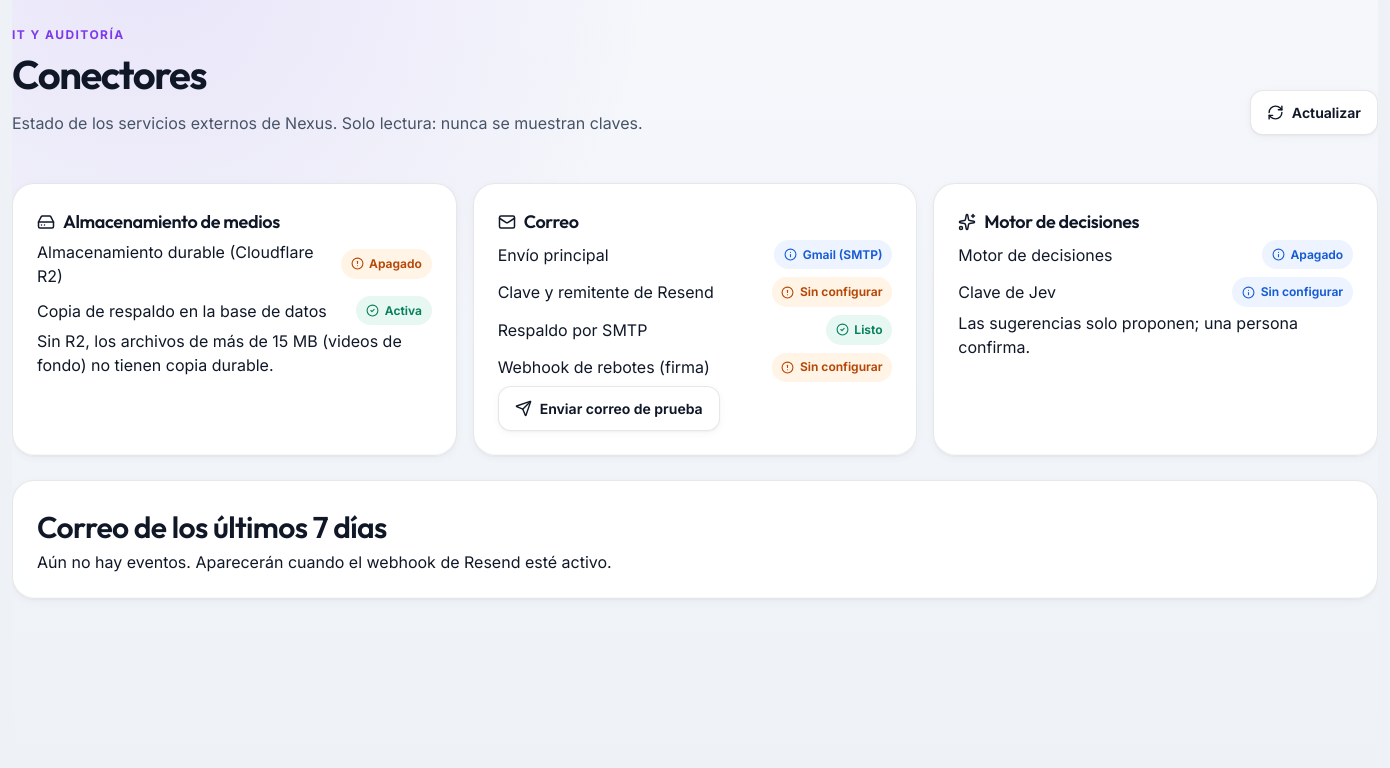
sends a test email to the signed-in Owner and reports the provider used
This screenshot has width=1390, height=768.
Click the button "Enviar correo de prueba". click: [609, 409]
box: [498,386,720,431]
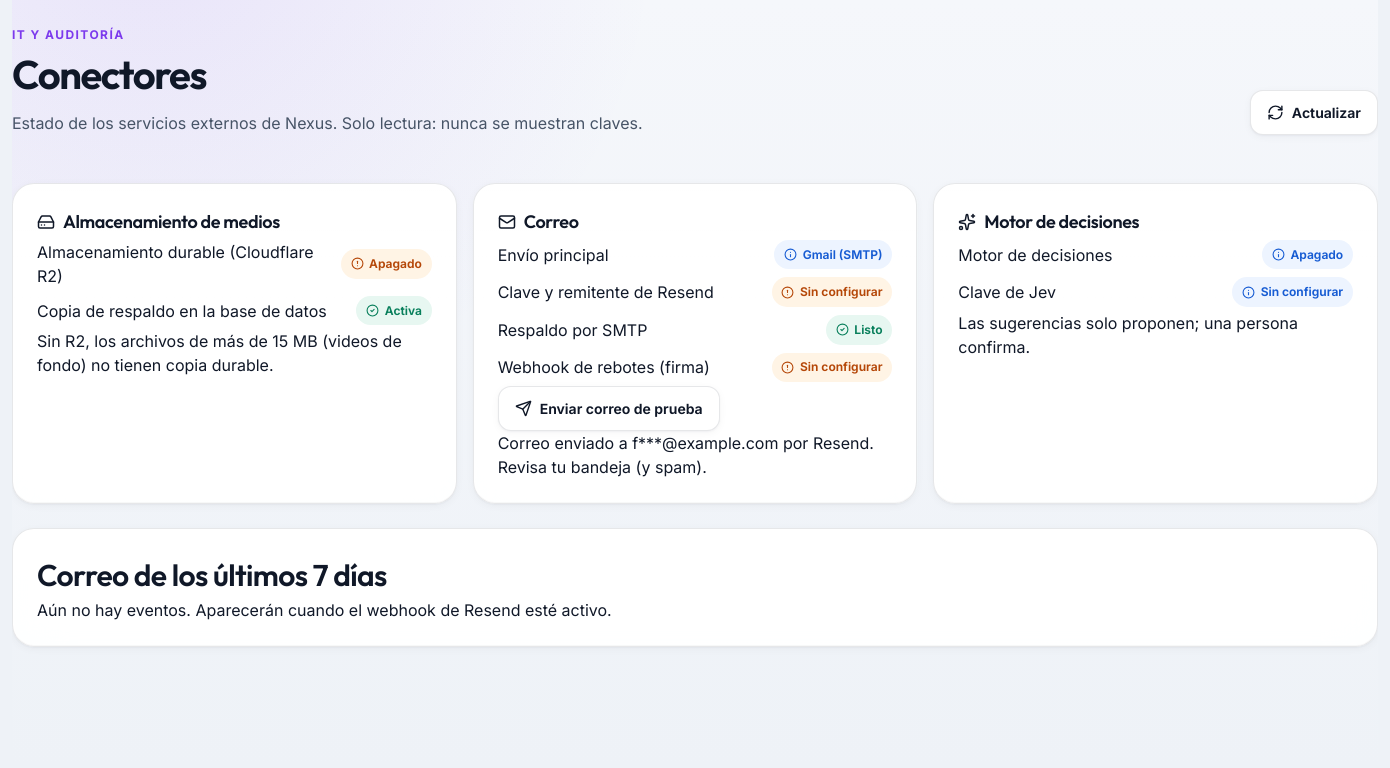
expect the message "Correo enviado a f***@example.com por Resend. Revisa tu bandeja (y spam)." is shown: met, box [498,431,892,479]
